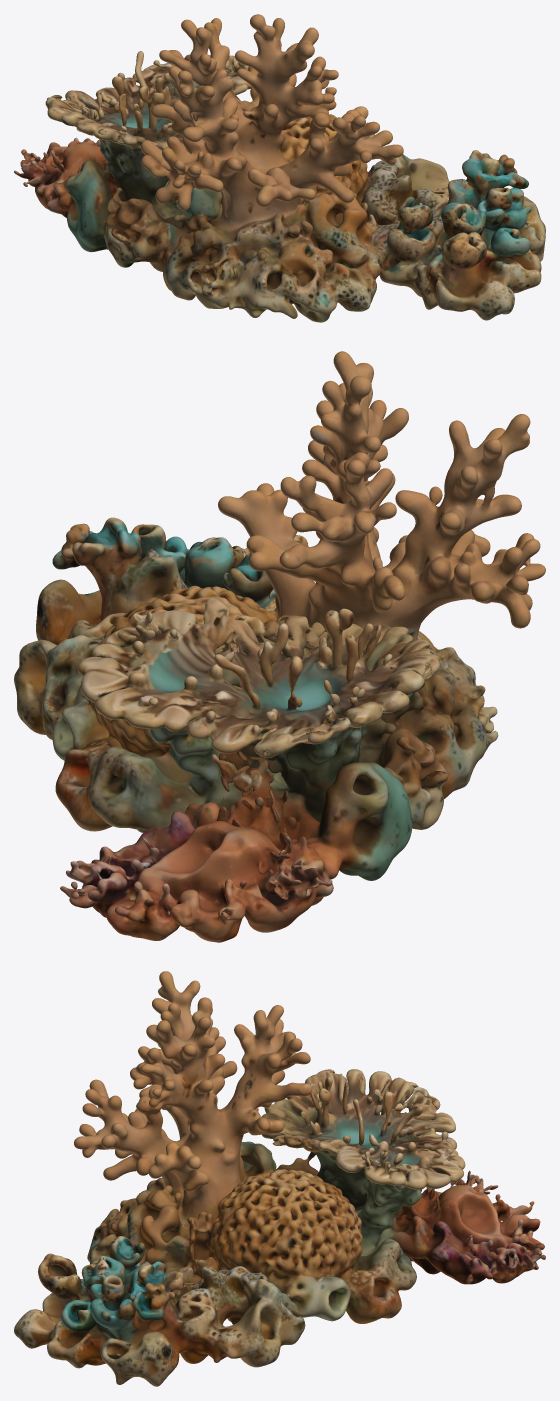
Rendered from reefmass_a.glb.
The picture shows the model from 3 angles, top to bottom: view 1: azimuth 30°, elevation 25°; view 2: azimuth 150°, elevation 25°; view 3: azimuth 270°, elevation 25°; orthographic projection. The views are drawn at different scales.
Visible parts, largest first — view 1: tripo_node_644a5cf5-50c0-48bb-8c4e-a936af62567c; view 2: tripo_node_644a5cf5-50c0-48bb-8c4e-a936af62567c; view 3: tripo_node_644a5cf5-50c0-48bb-8c4e-a936af62567c.
Part boxes in pixels (x1,y1,x2,y2): tripo_node_644a5cf5-50c0-48bb-8c4e-a936af62567c: (14,14,545,322); tripo_node_644a5cf5-50c0-48bb-8c4e-a936af62567c: (14,351,545,942); tripo_node_644a5cf5-50c0-48bb-8c4e-a936af62567c: (14,971,545,1386).
Size of the model in its own units: 0.8046 by 0.5735 by 1.
Materials: 1 (1 with a texture image).
